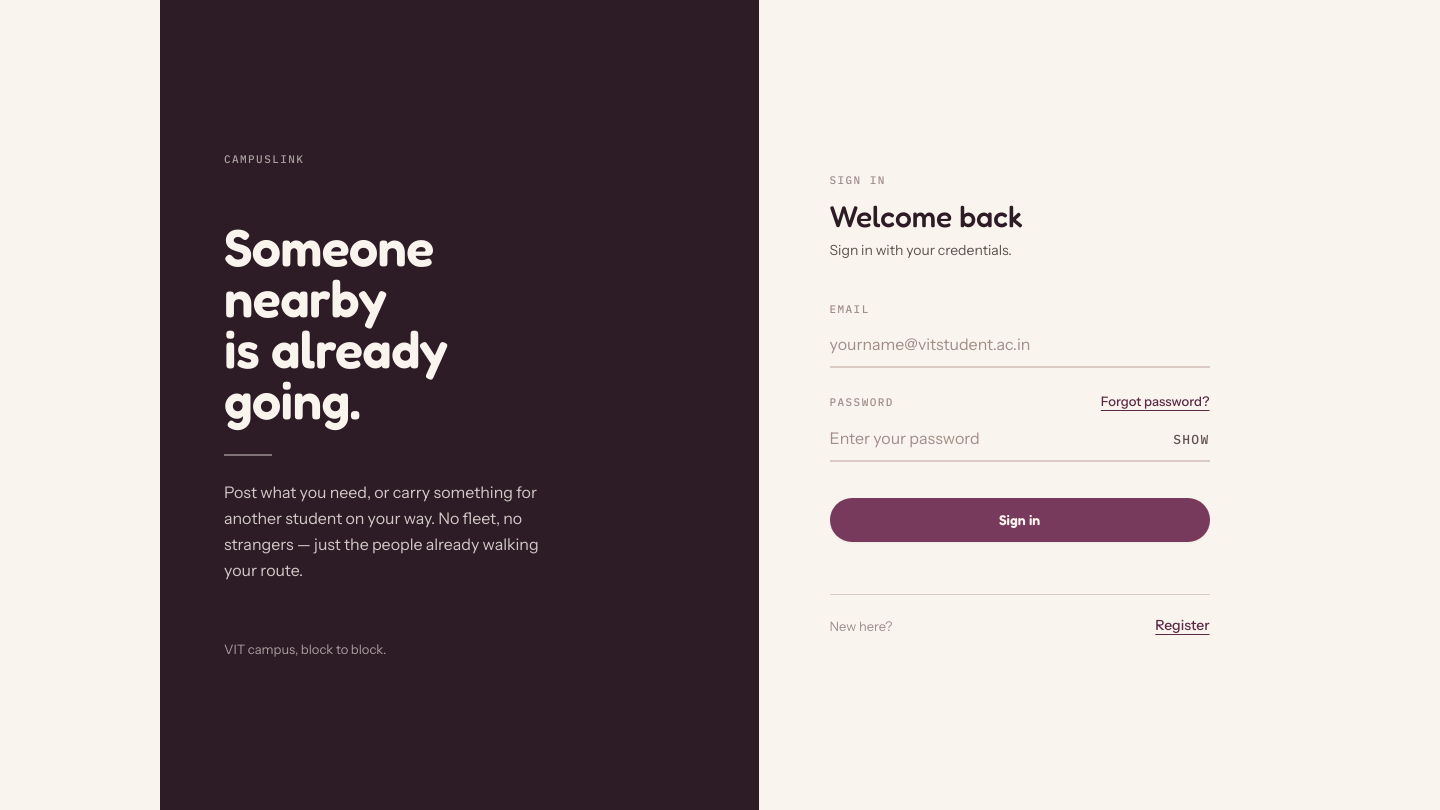
it: Login › forgot password (QA audit AUTH-09) › switches to a single-email form, hiding the password field
The width and height of the screenshot is (1440, 810).
Click the button "Forgot password?": [1155, 401] box [1101,392,1210,410]
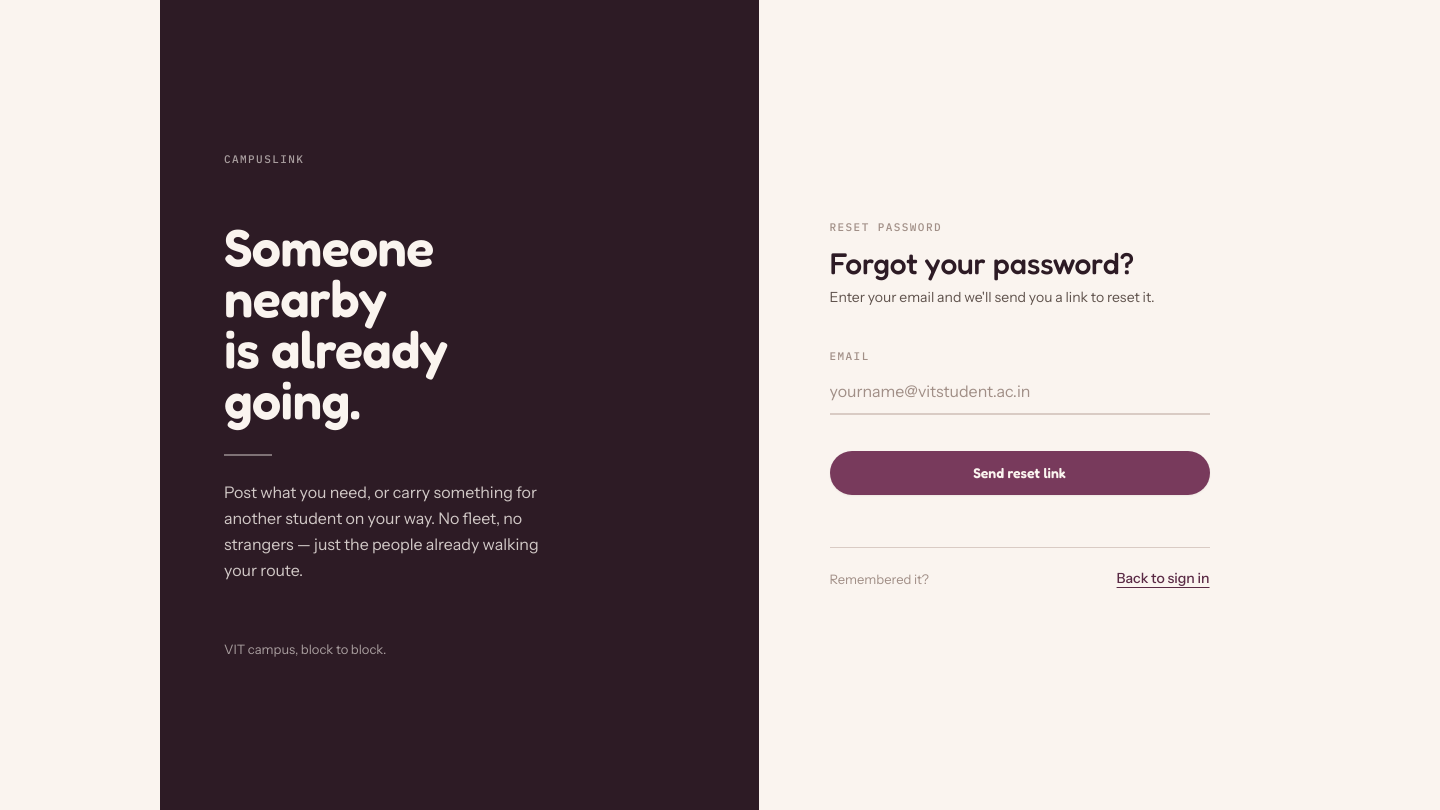
Check: the heading "Forgot your password?" is shown, box [830,245,1134,281]
Check: the button "Send reset link" is shown, box [830,451,1210,495]
